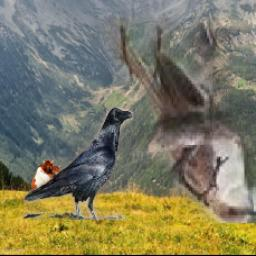Crow: (23, 108, 133, 221)
Cuckoo: (96, 19, 256, 224)
